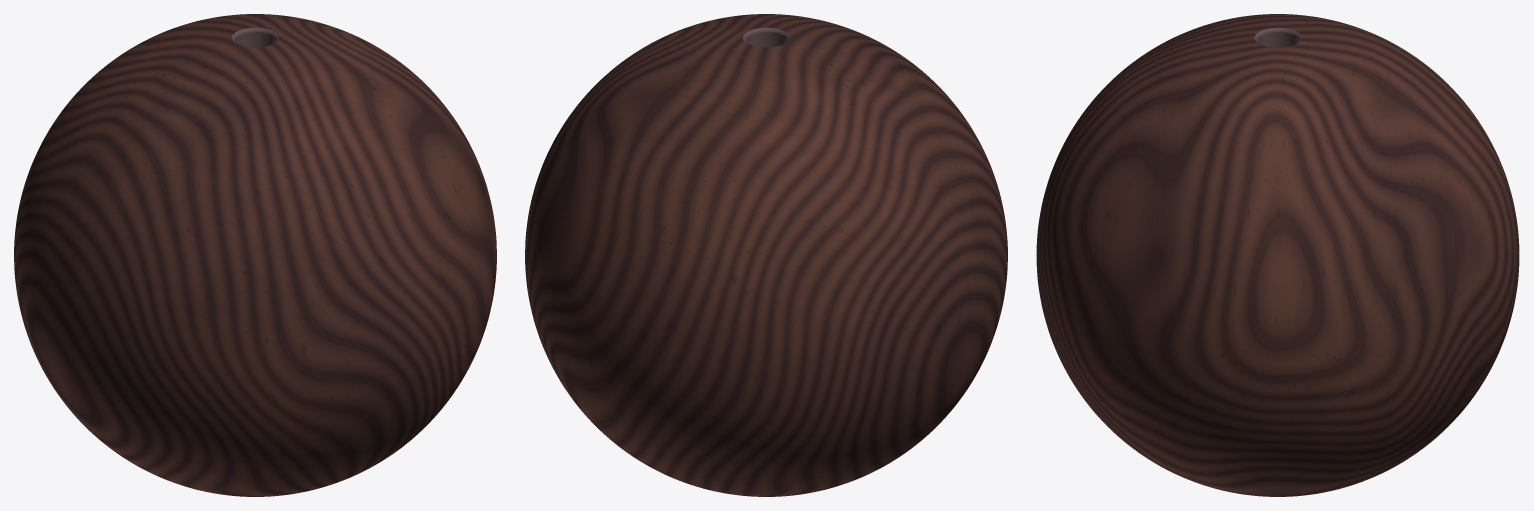
The model's file is wood-zitanliu-12mm.glb.
The picture shows the model from 3 angles, left to right: view 1: azimuth 30°, elevation 25°; view 2: azimuth 150°, elevation 25°; view 3: azimuth 270°, elevation 25°; orthographic projection.
Parts seen in each view (by area): view 1: zitanliu; view 2: zitanliu; view 3: zitanliu.
Boxes of the visible parts, <box> form: zitanliu: <box>14,14,496,496</box>; zitanliu: <box>525,14,1007,496</box>; zitanliu: <box>1036,14,1519,496</box>.
Bounding box in the file's own units: 0.012 × 0.0119 × 0.012.
2 materials, 1 textured.
